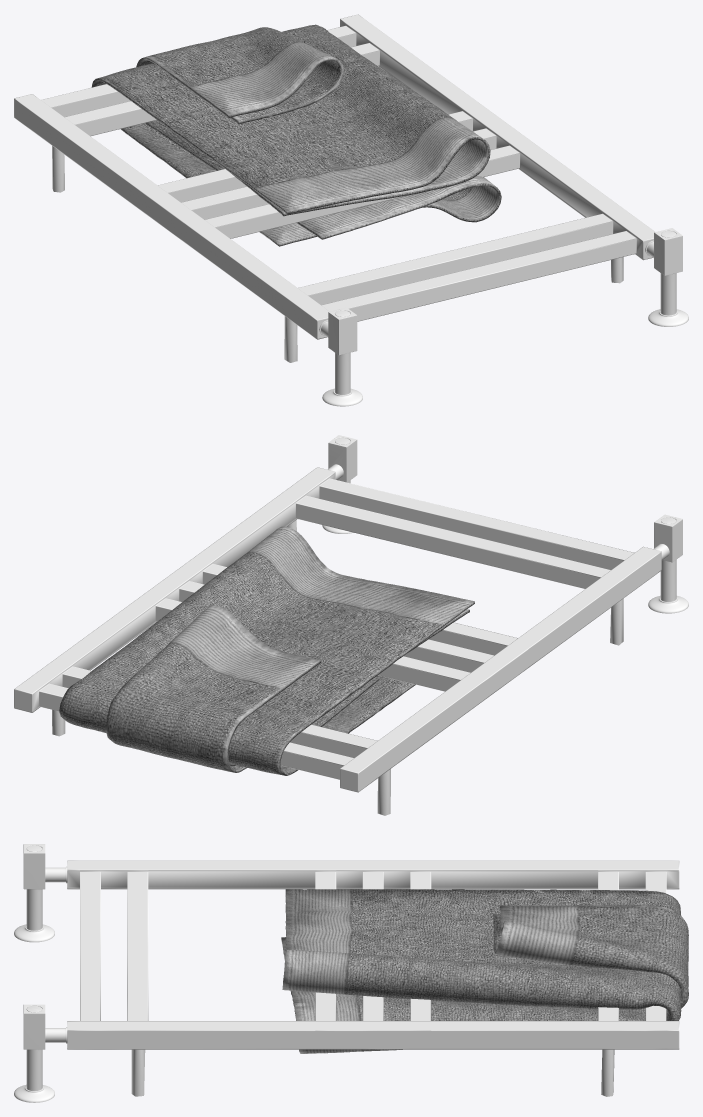
The model's file is bk_towel_rail.glb.
3 renders of one model, top to bottom at view 1: azimuth 30°, elevation 25°; view 2: azimuth 150°, elevation 25°; view 3: azimuth 270°, elevation 25°, orthographic.
Parts seen in each view (by area): view 1: heater, towel.002, towel.003, Cube, Circle.011; view 2: heater, towel.002, towel.003, Cube, Circle.011; view 3: heater, towel.002, towel.003, Cube, Circle.011.
Boxes of the visible parts, x1,y1,x2,y2 form: heater: (14, 14, 654, 339); towel.002: (91, 24, 501, 246); towel.003: (136, 27, 343, 124); Cube: (319, 228, 688, 406); Circle.011: (52, 146, 623, 362); heater: (14, 467, 661, 792); towel.002: (59, 526, 474, 775); towel.003: (106, 605, 320, 772); Cube: (322, 435, 688, 613); Circle.011: (52, 520, 623, 815); heater: (67, 860, 679, 1049); towel.002: (281, 889, 681, 1053); towel.003: (493, 905, 688, 1008); Cube: (14, 844, 67, 1102); Circle.011: (131, 1049, 614, 1096).
Size of the model in its own units: 0.6128 by 0.1887 by 0.9833.
3 materials, 2 textured.
